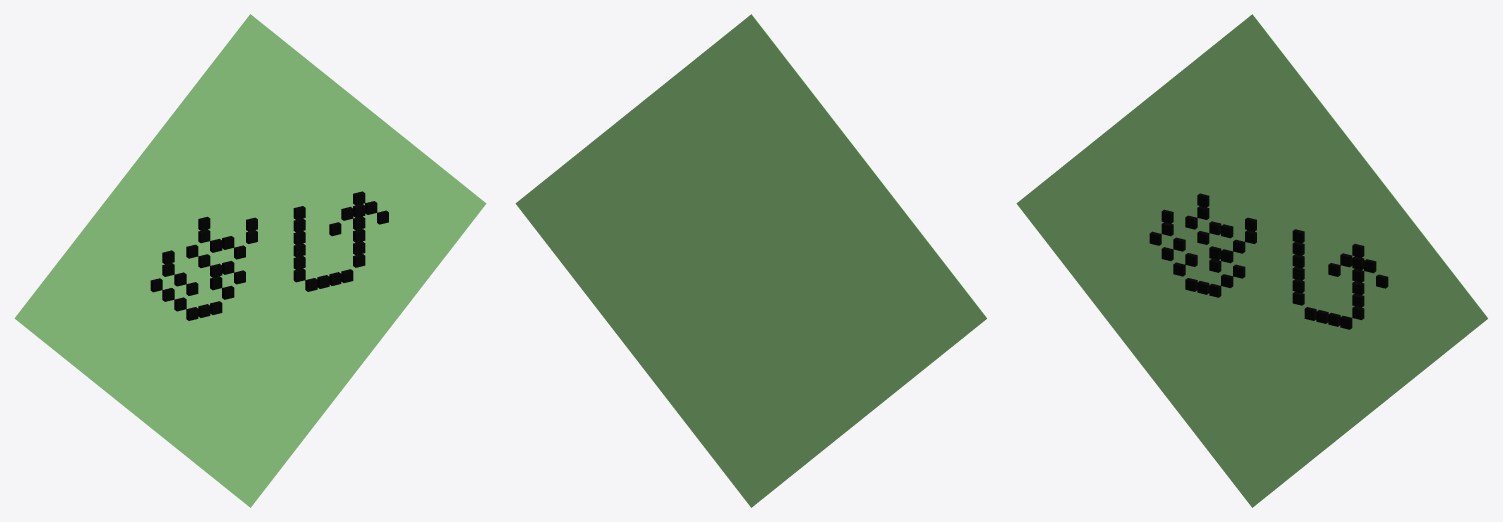
The model's file is ClearMyHeat.fbx.
The picture shows the model from 3 angles, left to right: view 1: azimuth 30°, elevation 25°; view 2: azimuth 150°, elevation 25°; view 3: azimuth 330°, elevation 25°; orthographic projection.
Visible parts, largest first — view 1: Cube.034; view 2: Cube.034; view 3: Cube.034.
Part boxes in pixels (x1=…): Cube.034: x1=14, y1=14, x2=486, y2=507; Cube.034: x1=515, y1=14, x2=987, y2=507; Cube.034: x1=1016, y1=14, x2=1488, y2=507.
Bounding box in the file's own units: 198 × 198 × 2.1.
